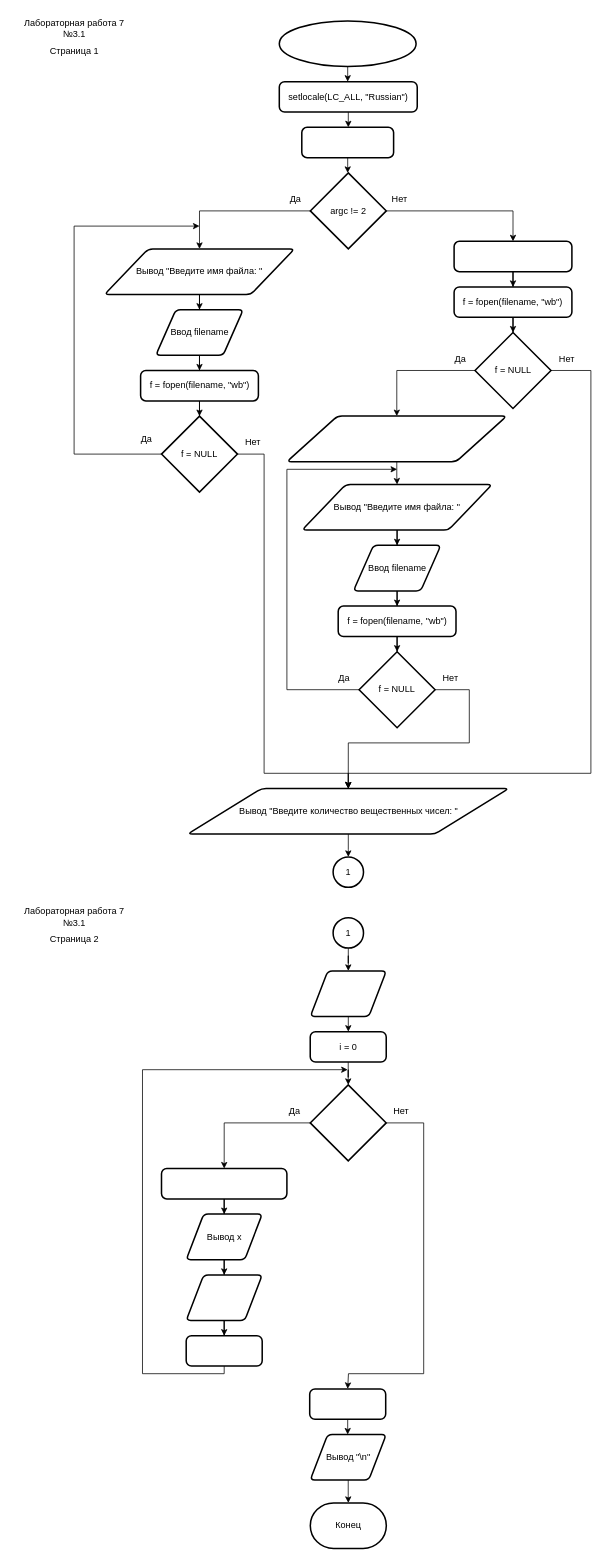
Image size: 610x1562. Some labels were removed from this diagram. Each missing label, with the centre of its shape:
f Вывод x: [224,1297]
fclose(f): [347,1404]
i < count: [348,1122]
i++: [224,1350]
main (int argc, char* argv[]): [347,43]
srand(time(NULL)): [347,142]
strcpy(filename, argv[1]): [512,256]
x = 0.01 * (rand() % 1001) - 5: [223,1183]
Ввод count: [348,993]
Вывод "Не удается открыть файл.\n": [396,438]
